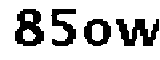5: (49, 6, 80, 52)
8: (14, 5, 45, 50)
o: (84, 17, 111, 48)
w: (114, 15, 160, 52)
